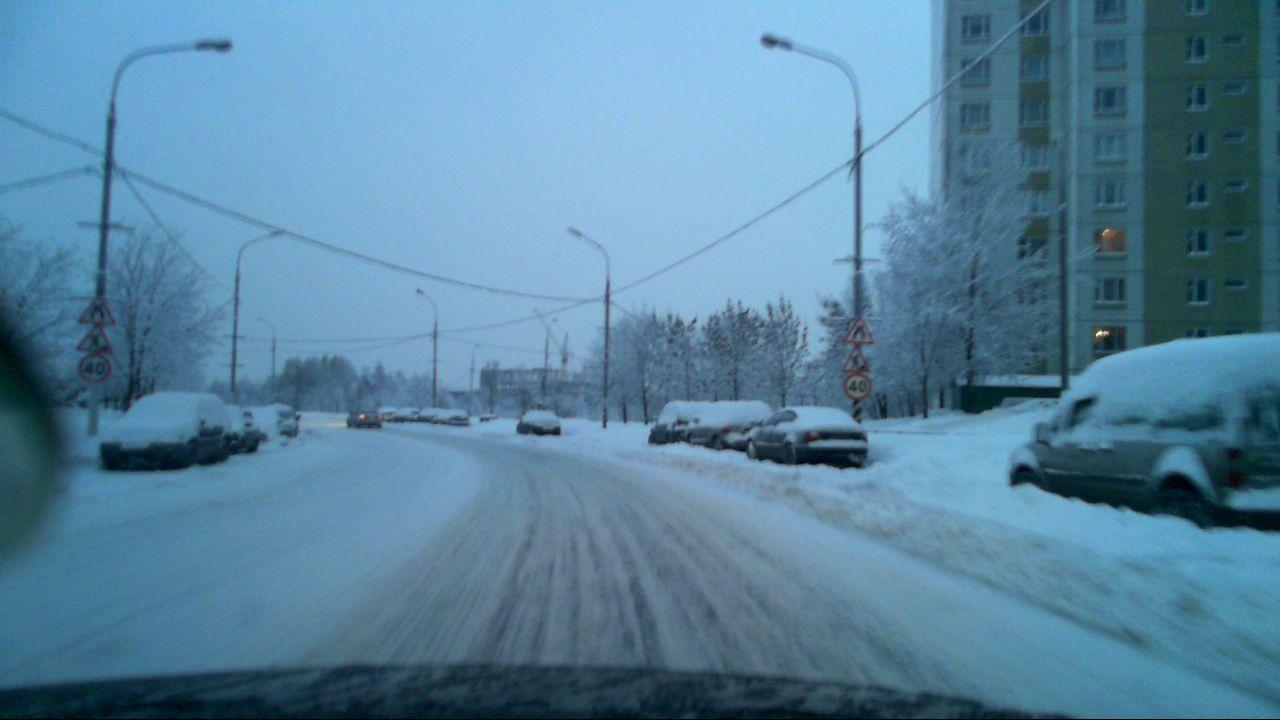1_20_1: (844, 314, 879, 344)
1_25: (844, 345, 871, 374)
3_24: (844, 374, 873, 400)
